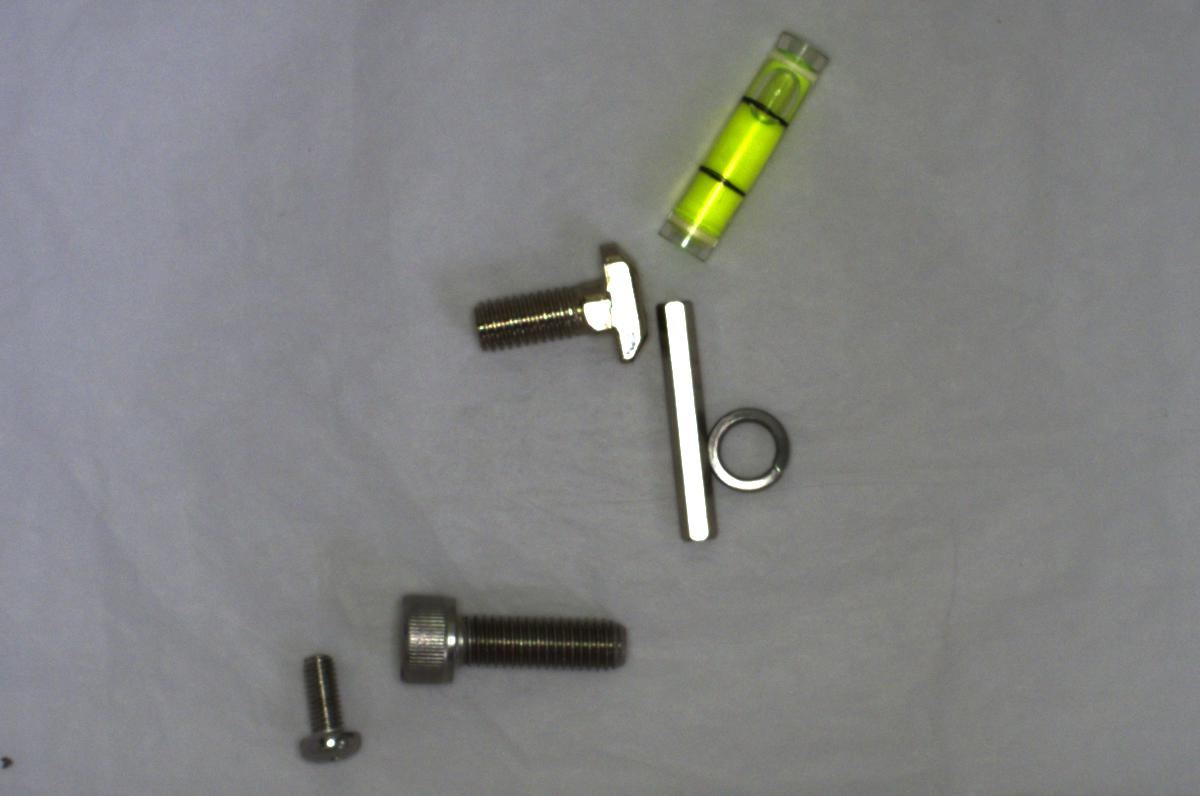Double hexagonal column: (652, 285, 719, 546)
Hexagon screw: (393, 582, 635, 690)
Horizontal bubble: (650, 16, 832, 260)
Round head screw: (287, 635, 366, 772)
Spring washer: (704, 395, 798, 496)
T-shaped screw: (459, 241, 651, 365)
